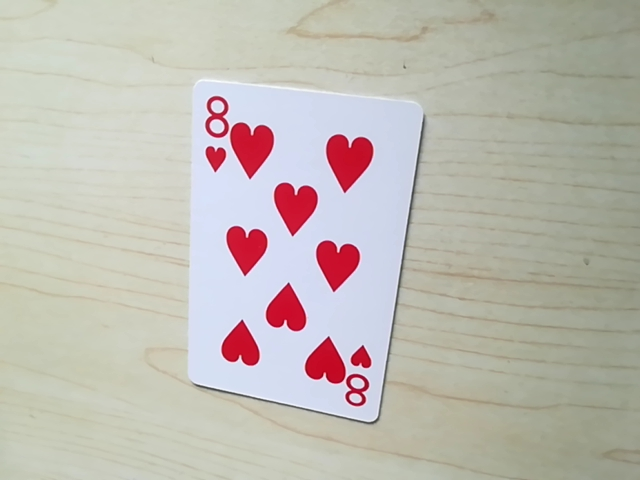hx 8: (330, 364, 377, 417), (201, 88, 240, 140)
